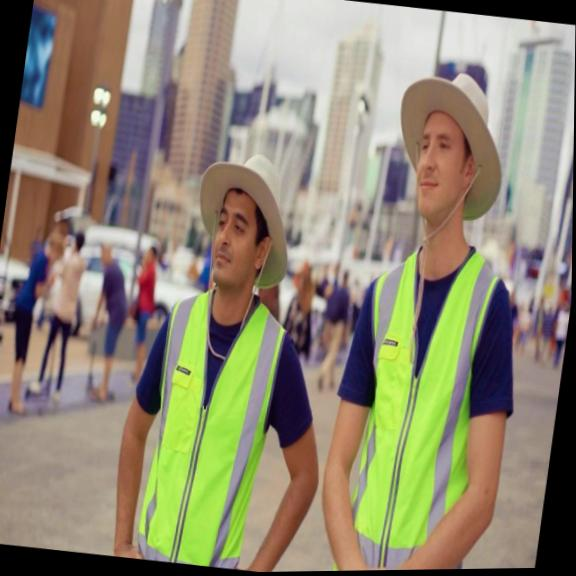safety_vest: (325, 232, 505, 571), (131, 283, 294, 573)
